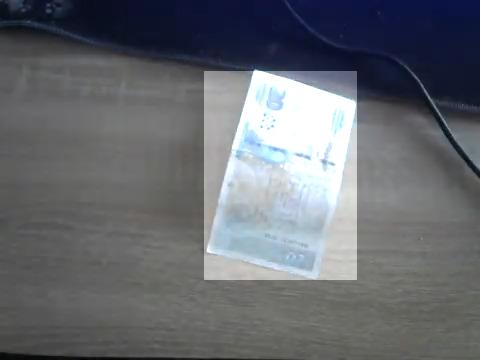20leva: (204, 71, 357, 280)
